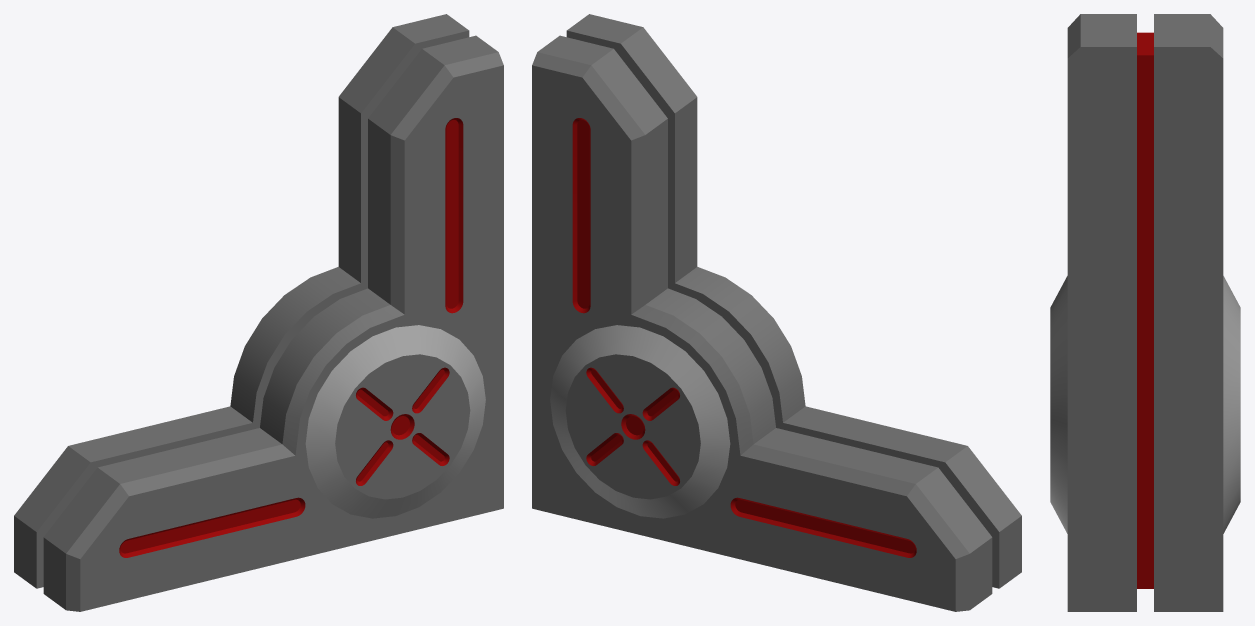
File: Force Field Corner Piece.fbx
3 views of the same model, side by side, from view 1: azimuth 30°, elevation 25°; view 2: azimuth 150°, elevation 25°; view 3: azimuth 270°, elevation 25° (orthographic). The views are drawn at different scales.
Visible parts, largest first — view 1: Component_1_1, Component_1_2; view 2: Component_1_2, Component_1_1; view 3: Component_1_1, Component_1_2.
Boxes of the visible parts, left/top/right/bottom form: Component_1_1: left=43, top=35, right=503, bottom=611; Component_1_2: left=14, top=14, right=469, bottom=588; Component_1_2: left=532, top=35, right=992, bottom=611; Component_1_1: left=566, top=14, right=1021, bottom=588; Component_1_1: left=1050, top=14, right=1145, bottom=611; Component_1_2: left=1145, top=14, right=1240, bottom=611.
Bounding box in the file's own units: 36 × 36 × 11.
